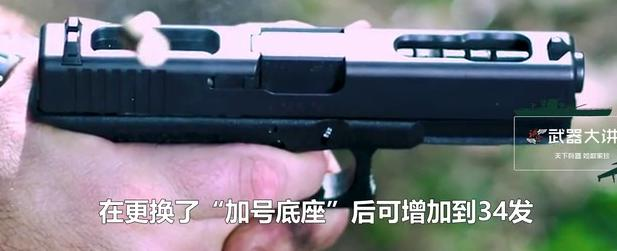gun: (1, 1, 617, 251)
